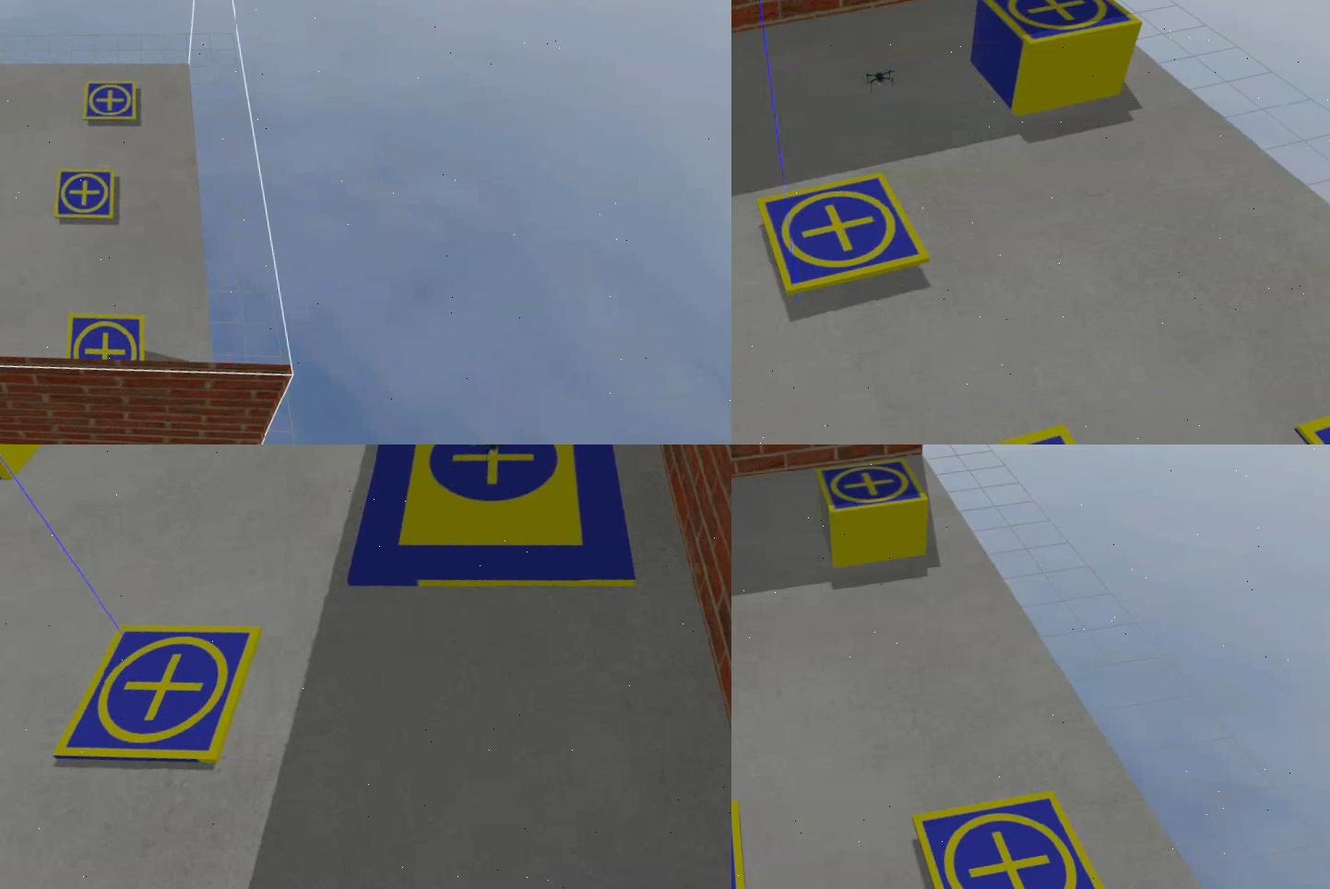large_base: (338, 445, 641, 609)
small_base: (49, 618, 267, 782), (756, 171, 933, 297), (912, 790, 1122, 889), (978, 1, 1143, 53), (819, 457, 931, 517), (66, 311, 148, 371), (53, 165, 119, 226), (81, 78, 141, 126)
